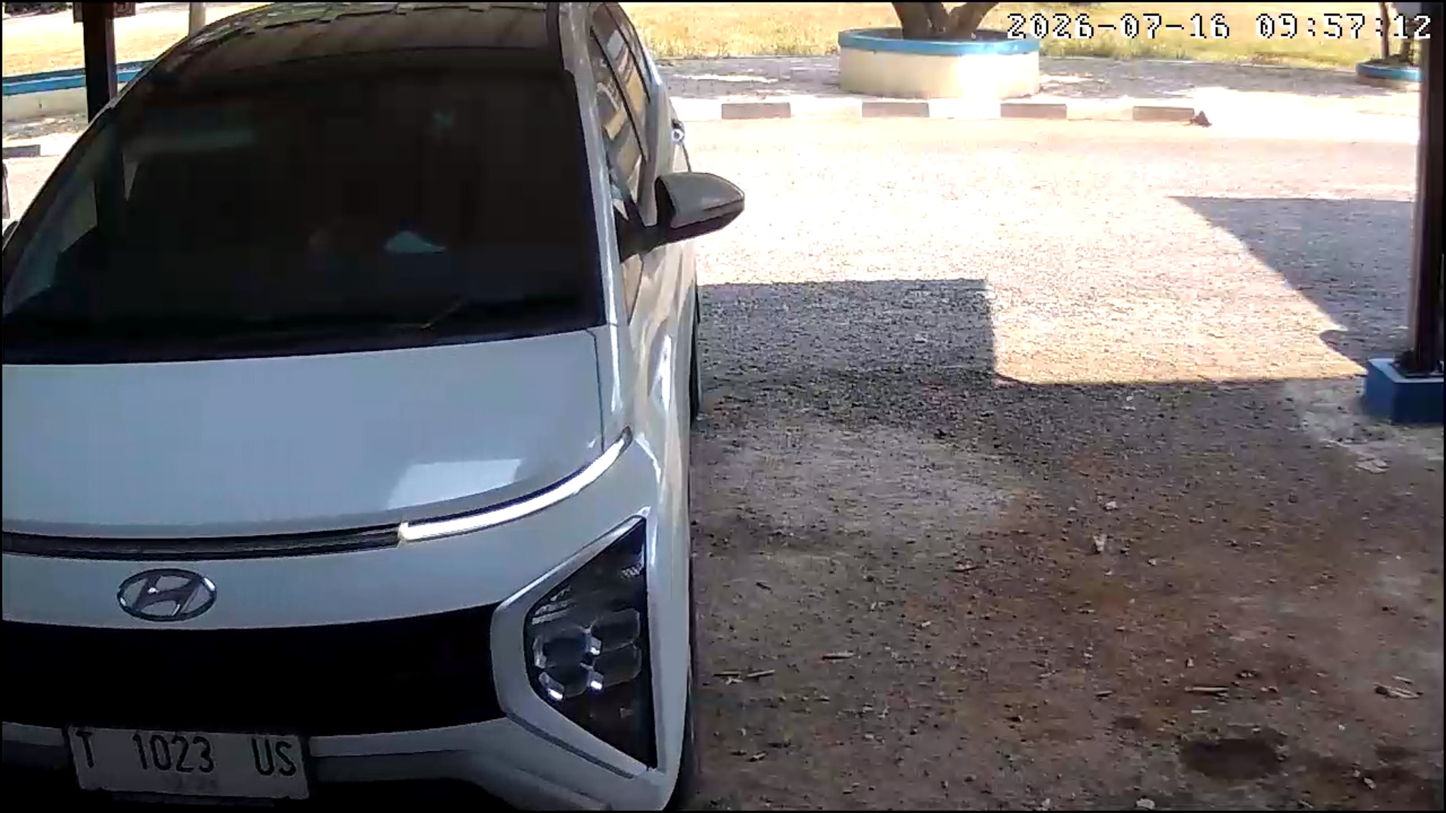plat nomor: (66, 720, 313, 802)
